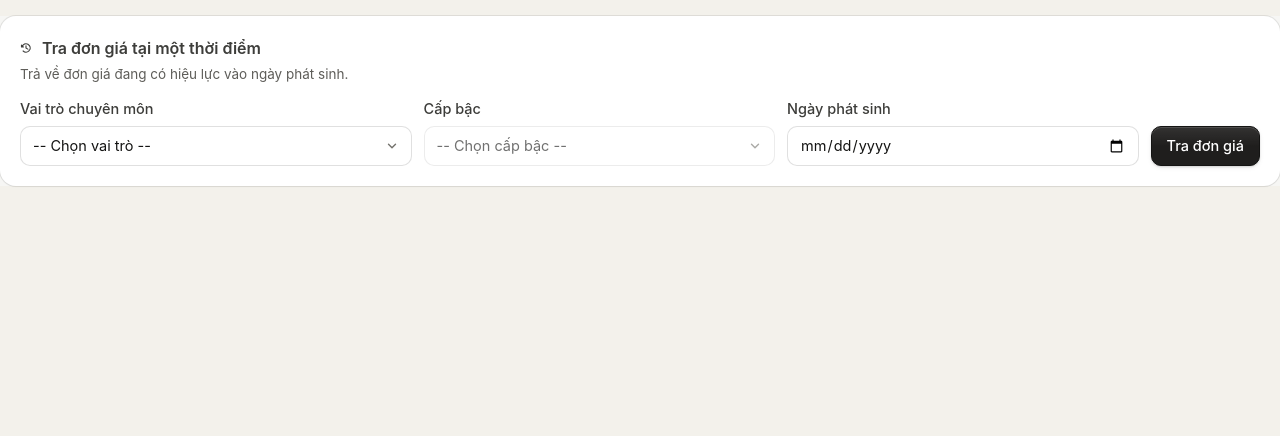
it: RateResolveLookup (NCL-07-CN-002 — Đặt hiệu lực theo thời điểm cho đơn giá) › TC-02: tra đúng dòng hiệu lực gần nhất không vượt quá ngày phát sinh, hiển thị effectiveFrom trả về
Select "Lập trình viên cao cấp" in the dropdown labelled "Vai trò chuyên môn" at (216,146), box [20, 126, 412, 166]
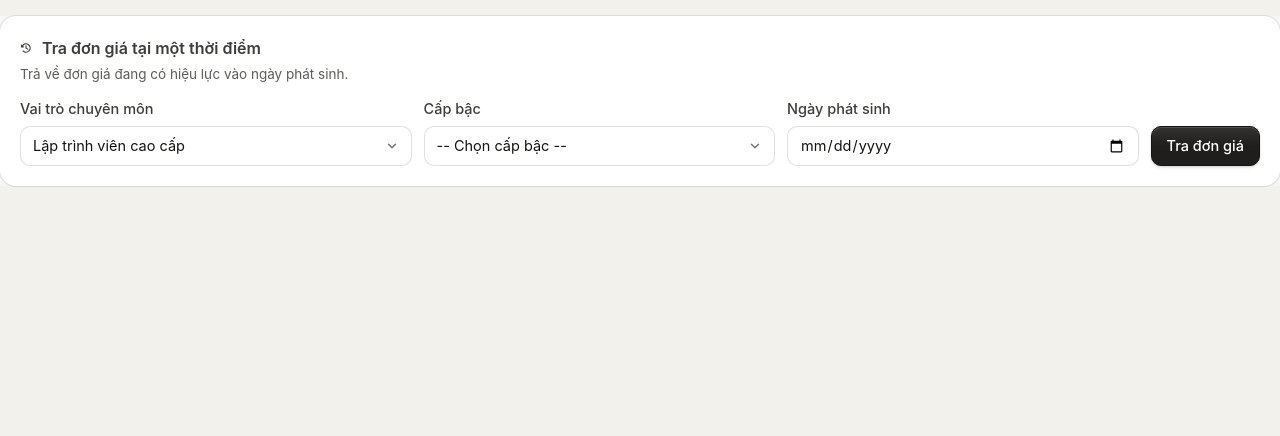
Select "Cao cấp" in the dropdown labelled "Cấp bậc" at (599,146), box [424, 126, 775, 166]
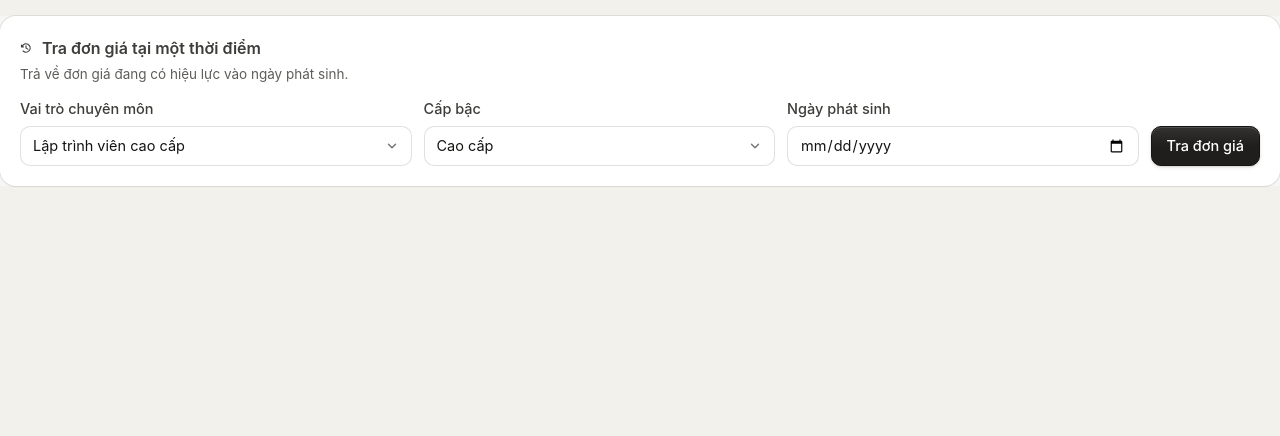
Type "2026-06-30" into the date field labelled "Ngày phát sinh".
click(963, 146); type("2026-06-30")  # box [787, 126, 1138, 166]
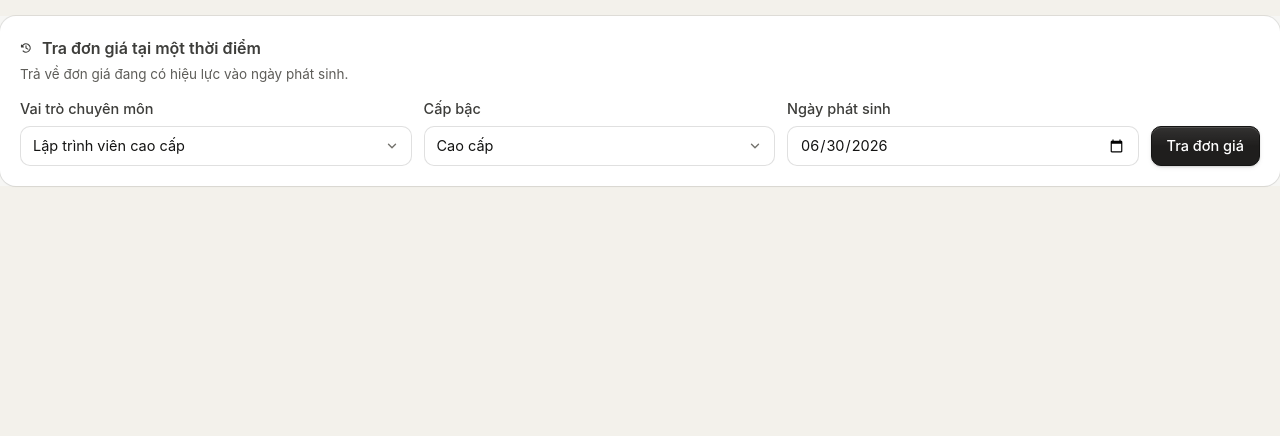
Click the button "Tra đơn giá".
click(1205, 146)  # box [1150, 126, 1260, 166]
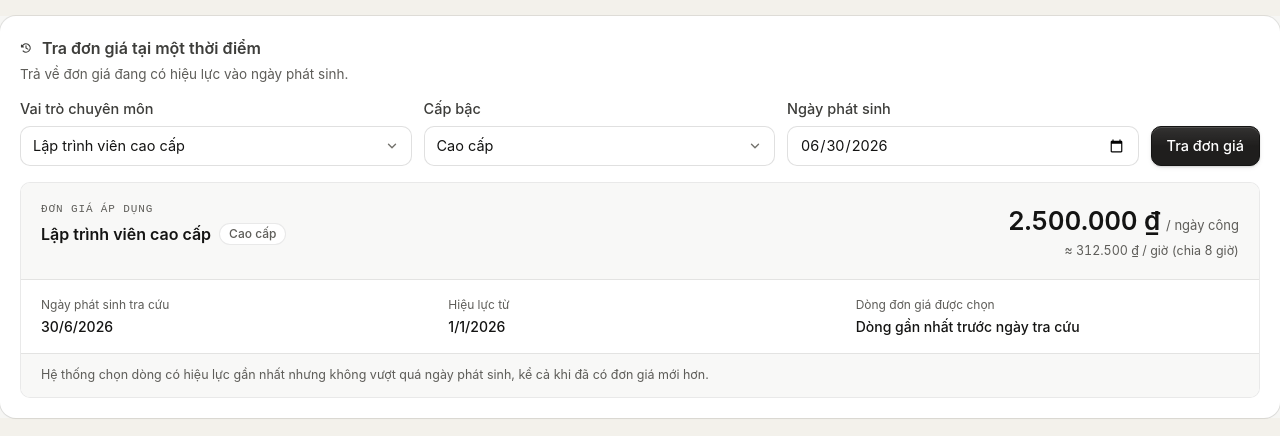
Expected: the message with test id "rate-resolve-result" shows "Lập trình viên cao cấp", [41, 224, 211, 244]
Expected: the message with test id "rate-resolve-result" shows "2.500.000", [1008, 205, 1160, 236]
Expected: the message with test id "rate-resolve-result" shows "1/1/2026", [448, 318, 505, 335]
